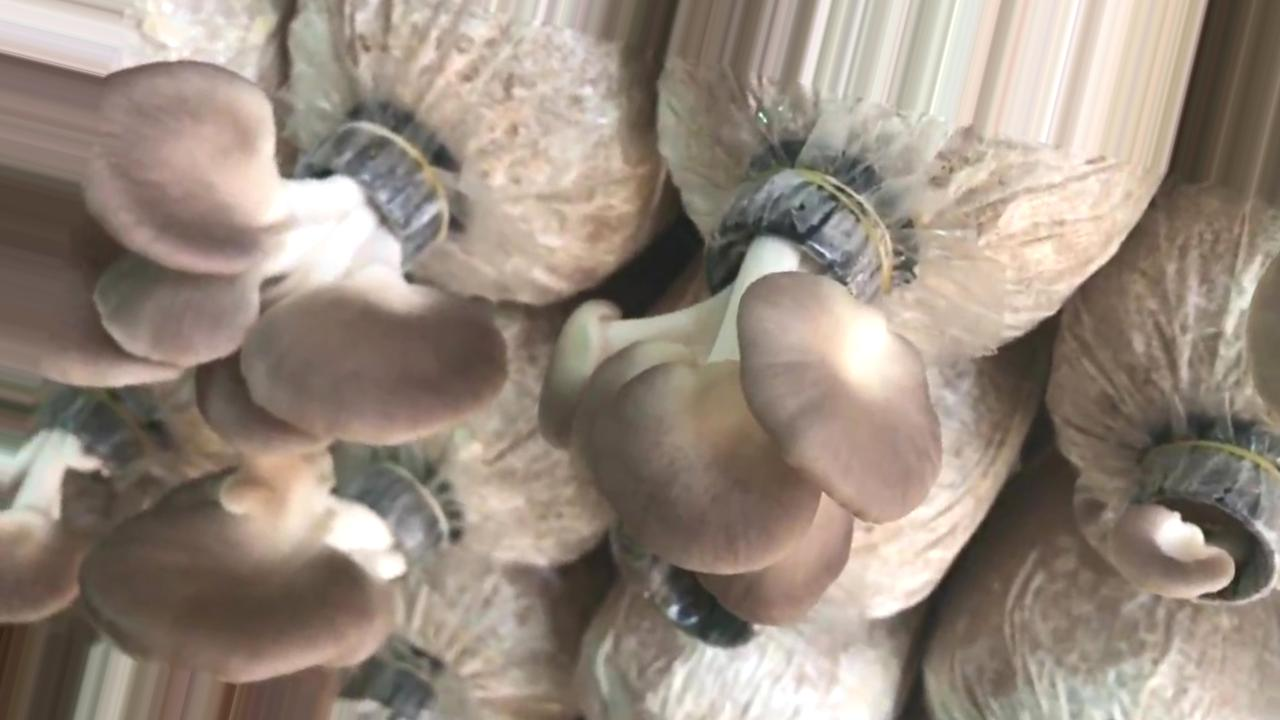nam: (1, 51, 504, 452), (542, 181, 938, 619), (78, 459, 427, 686), (1, 398, 141, 621), (1116, 443, 1280, 605)
